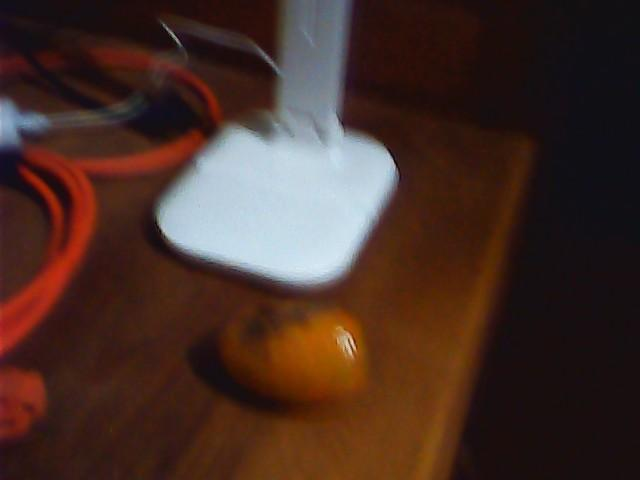defectuoso: (218, 302, 369, 410)
